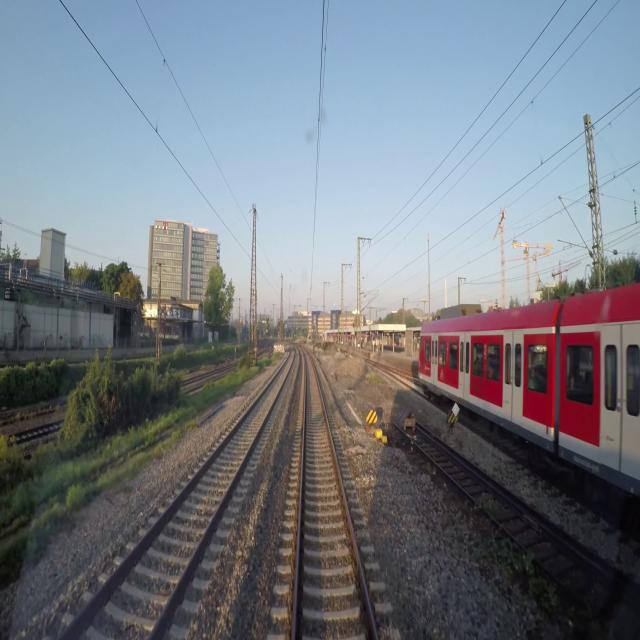rail-track: (64, 347, 293, 639), (412, 426, 640, 639), (297, 353, 374, 639)
